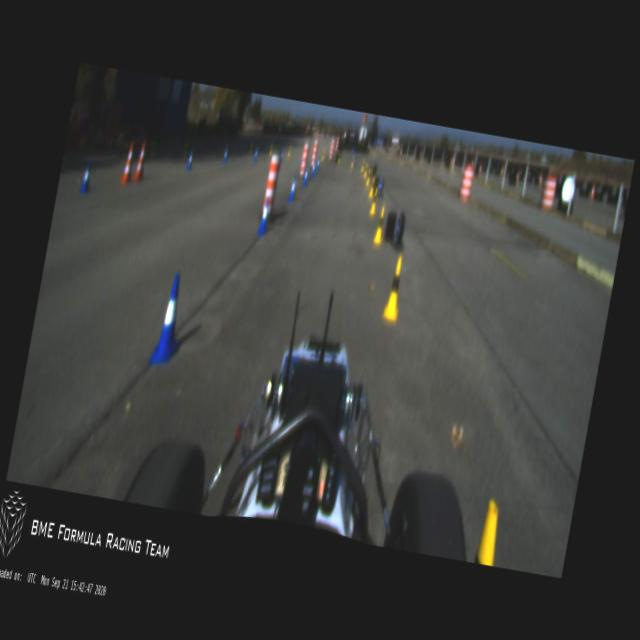blue_cone: (147, 270, 190, 368), (255, 195, 272, 238), (78, 160, 92, 194), (288, 175, 298, 203), (301, 166, 309, 186), (186, 150, 194, 169), (309, 161, 316, 178), (222, 147, 228, 163), (278, 147, 284, 162), (314, 157, 320, 171), (253, 147, 258, 160)
large_orange_cone: (119, 141, 138, 185), (131, 140, 149, 183)
yellow_cone: (474, 498, 506, 564), (381, 254, 407, 322), (372, 204, 387, 245), (368, 188, 378, 215), (368, 175, 376, 197), (364, 168, 372, 186), (362, 162, 368, 178), (360, 158, 364, 172), (350, 155, 354, 168), (337, 152, 341, 165), (287, 144, 291, 157), (268, 143, 272, 156), (321, 150, 325, 162), (249, 143, 253, 154)
